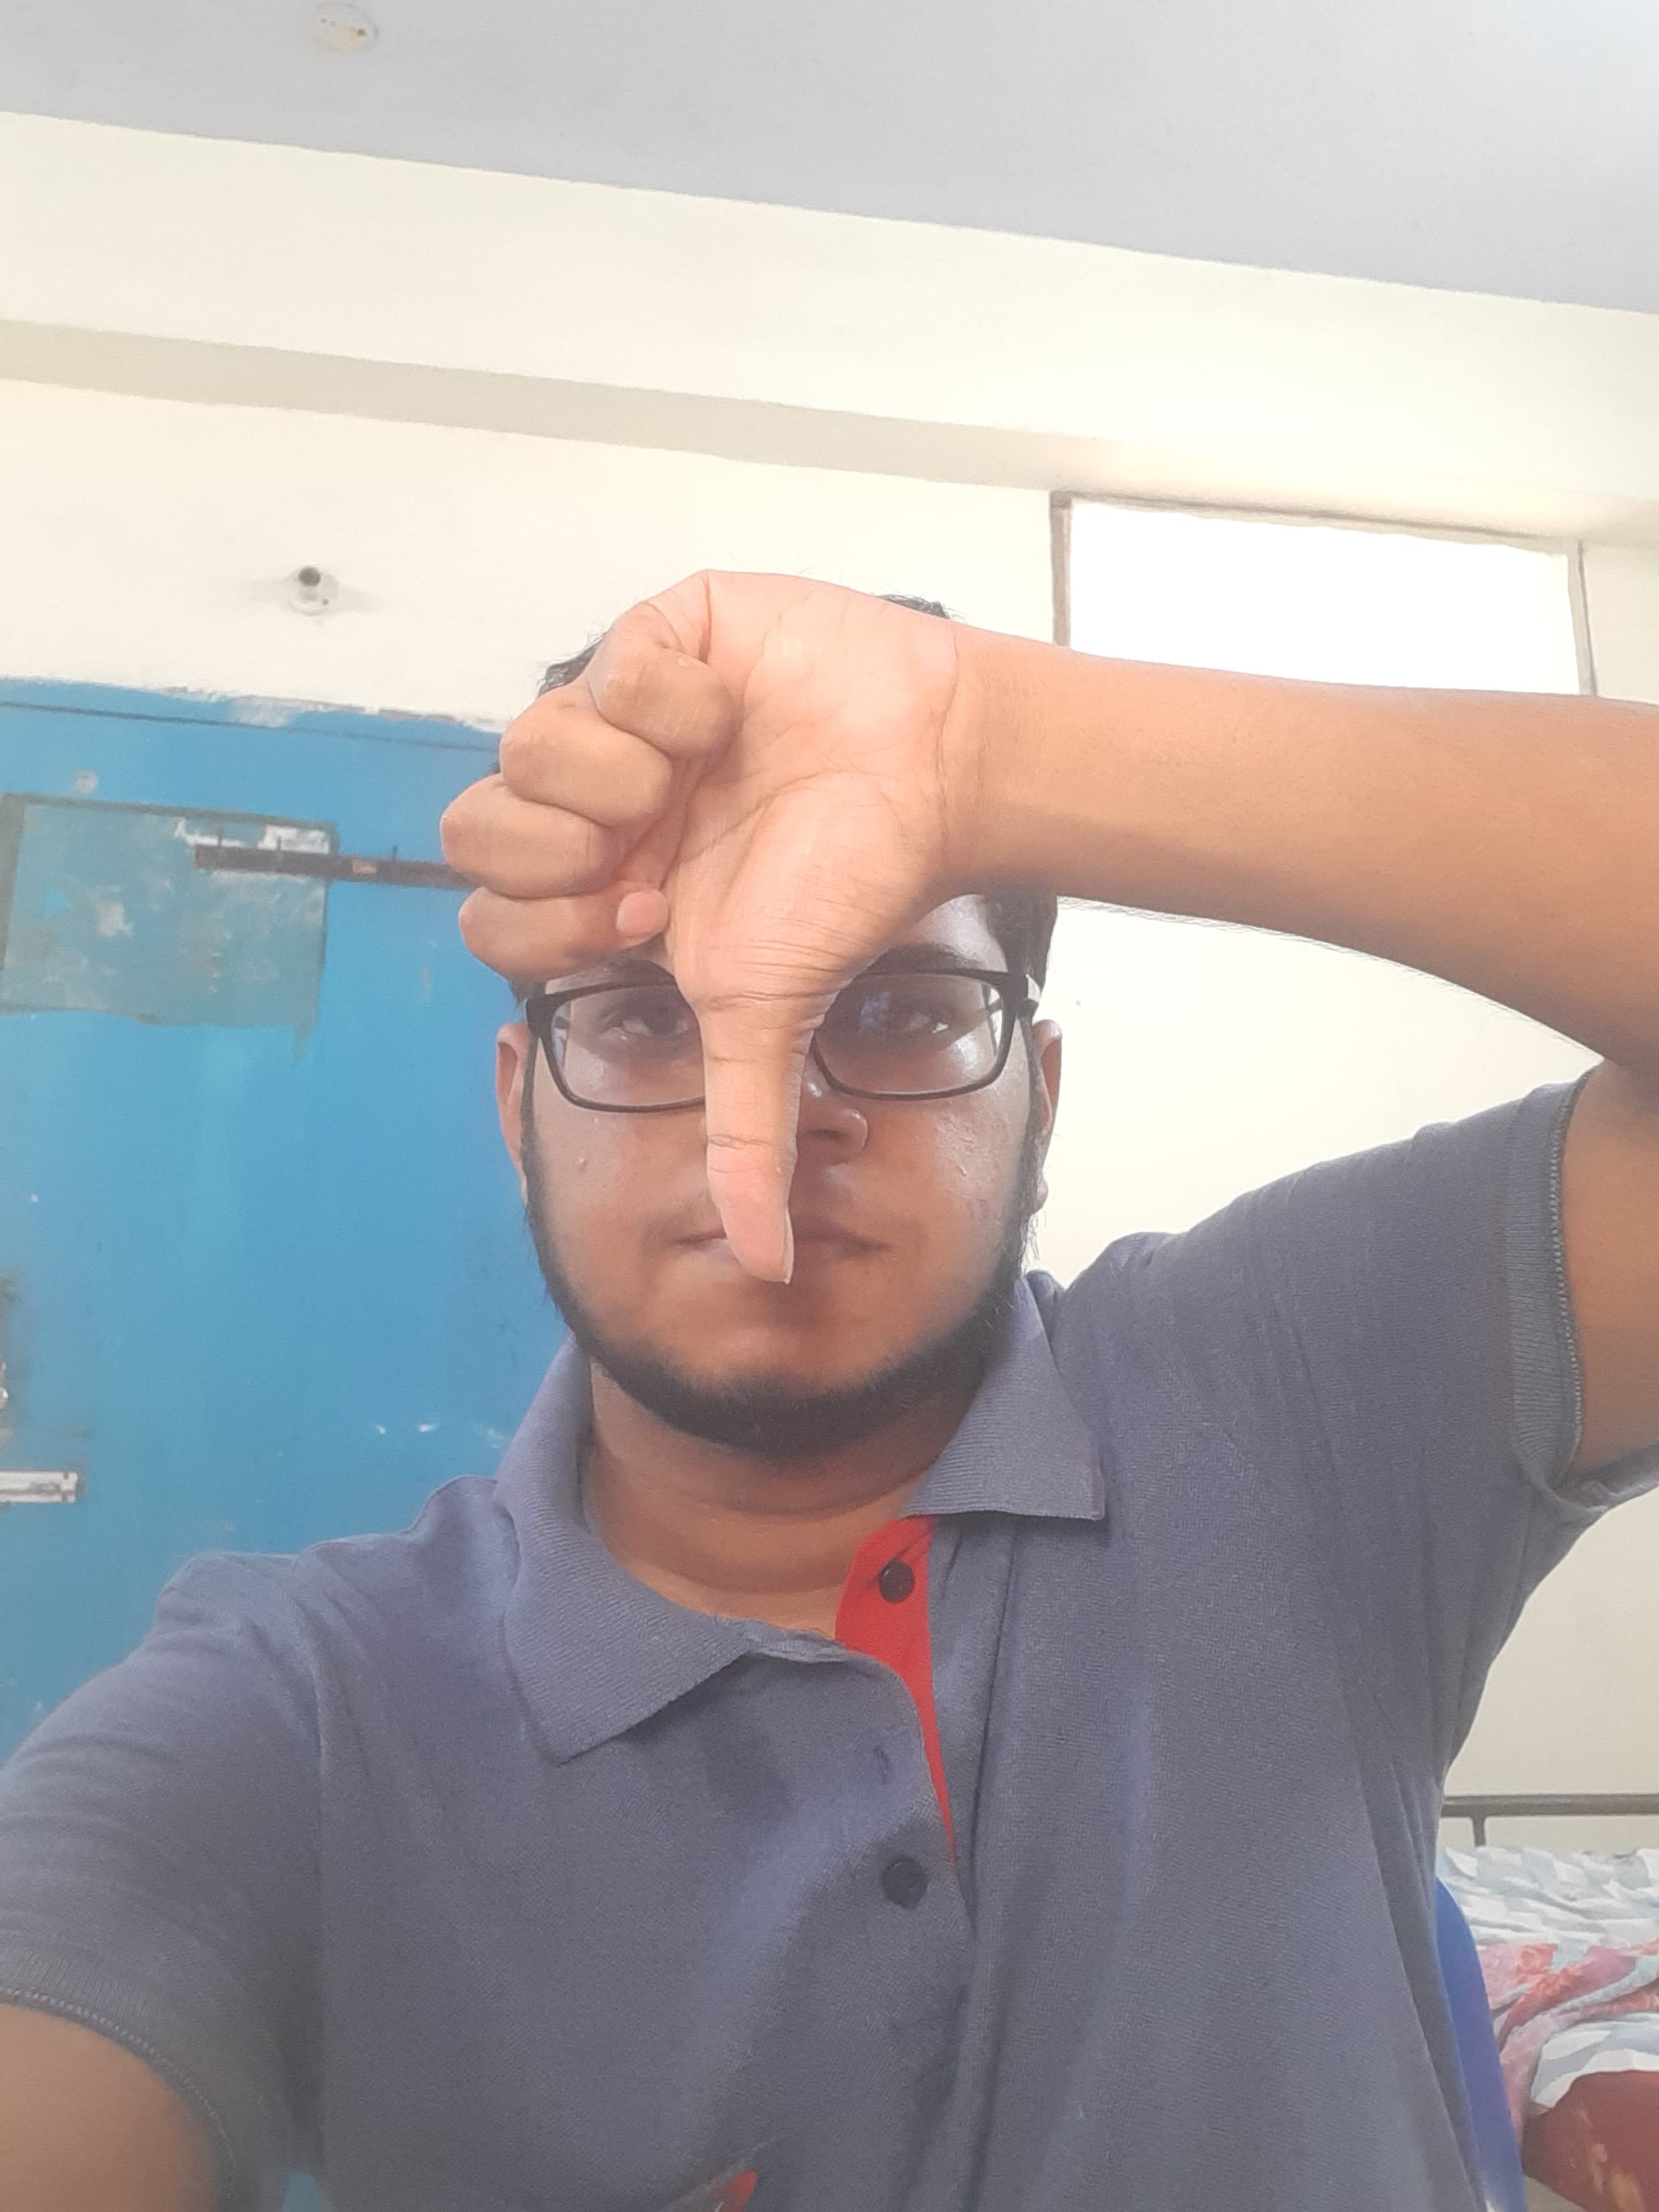td12: (432, 571, 990, 1296)
